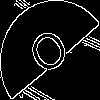O: (25, 25, 78, 85)
